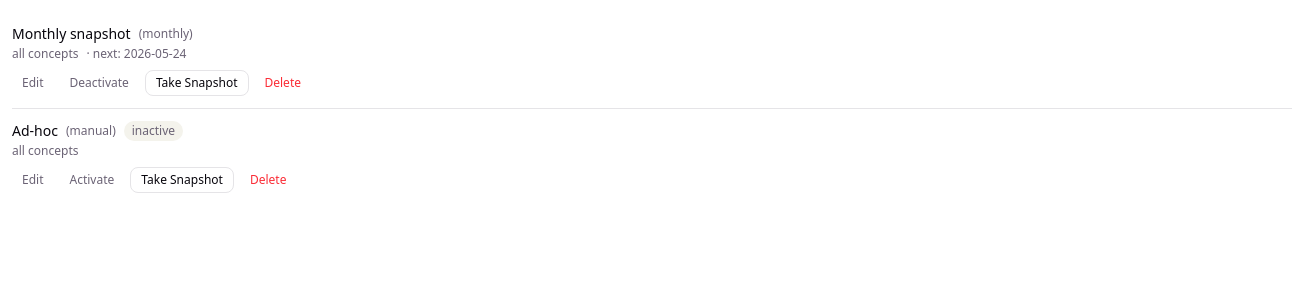
Test: ProcessList › shows edit form when edit button clicked
The image size is (1304, 281).
Check: the text "Monthly snapshot" is shown, box [12,24,131,44]
Click the button with aria-label "edit monthly snapshot".
click(33, 83)  # box [12,71,54,95]
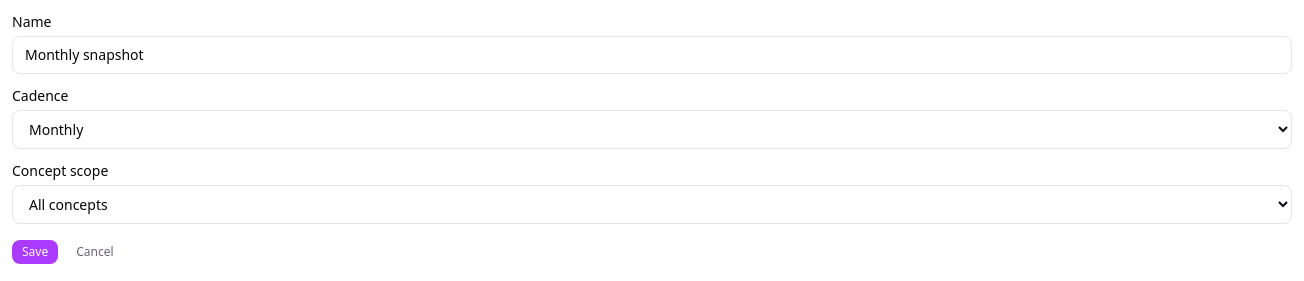
Check: the field showing "Monthly snapshot" is shown, box [12,36,1292,74]
